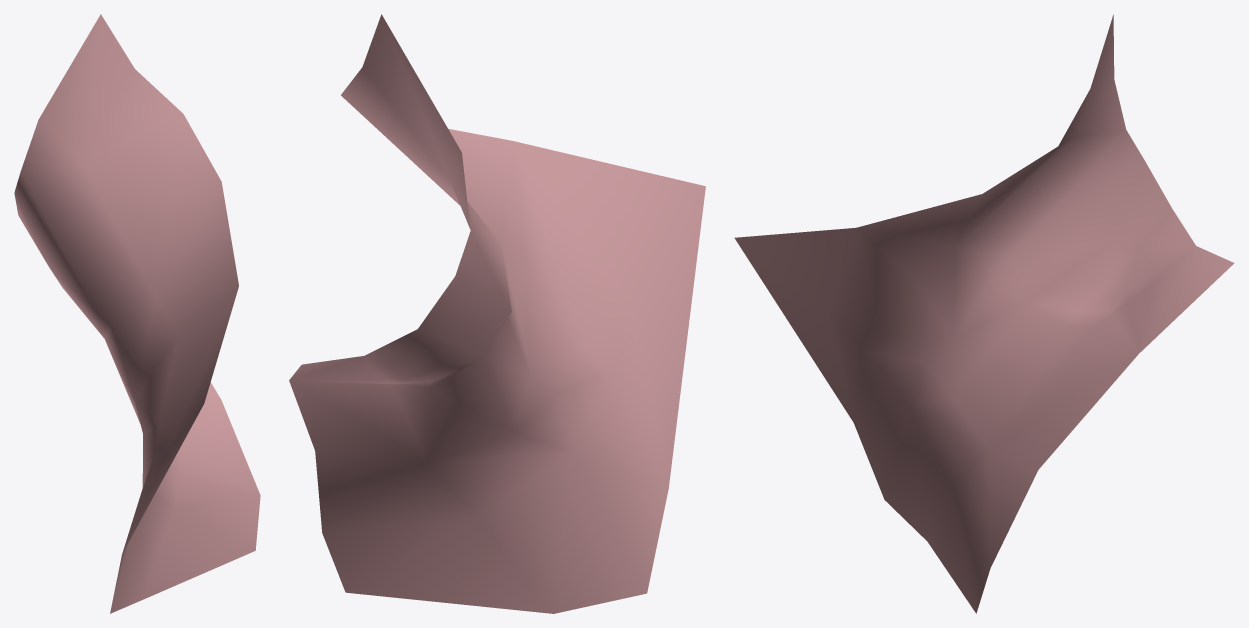
3 views of the same model, side by side, from view 1: azimuth 30°, elevation 25°; view 2: azimuth 150°, elevation 25°; view 3: azimuth 270°, elevation 25° (orthographic). The views are drawn at different scales.
Parts seen in each view (by area): view 1: ZA_2ff53f85cc1cbc23; view 2: ZA_2ff53f85cc1cbc23; view 3: ZA_2ff53f85cc1cbc23.
Boxes of the visible parts, box(x1,y1,x2,y2) form: ZA_2ff53f85cc1cbc23: box(14, 14, 260, 613); ZA_2ff53f85cc1cbc23: box(289, 14, 705, 613); ZA_2ff53f85cc1cbc23: box(734, 14, 1234, 613).
Bounding box in the file's own units: 0.0054 × 0.0131 × 0.0108.
